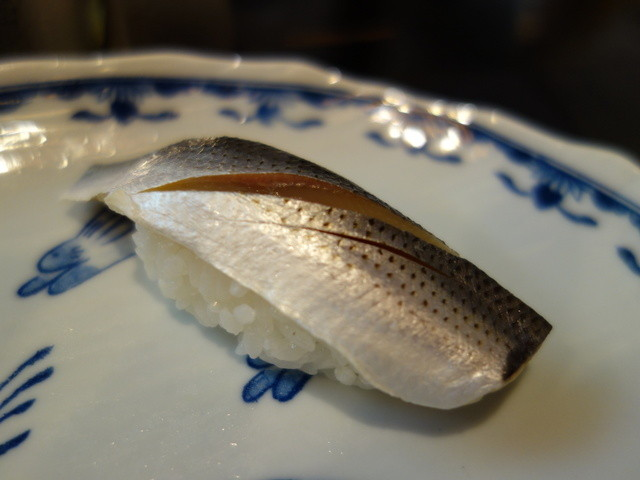spotted-shad: (59, 132, 561, 428)
